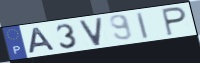3: (55, 22, 78, 50)
9: (110, 14, 135, 44)
A: (28, 26, 58, 55)
I: (136, 11, 151, 40)
P: (161, 6, 188, 37)
V: (78, 16, 104, 48)
